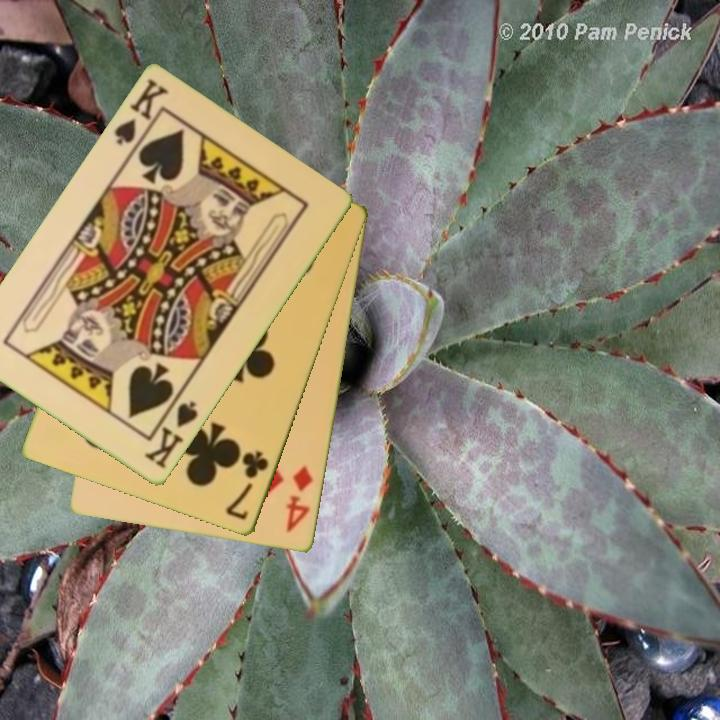4d: (282, 462, 317, 536)
7c: (222, 447, 272, 524)
Ks: (110, 75, 172, 158), (140, 391, 202, 473)
